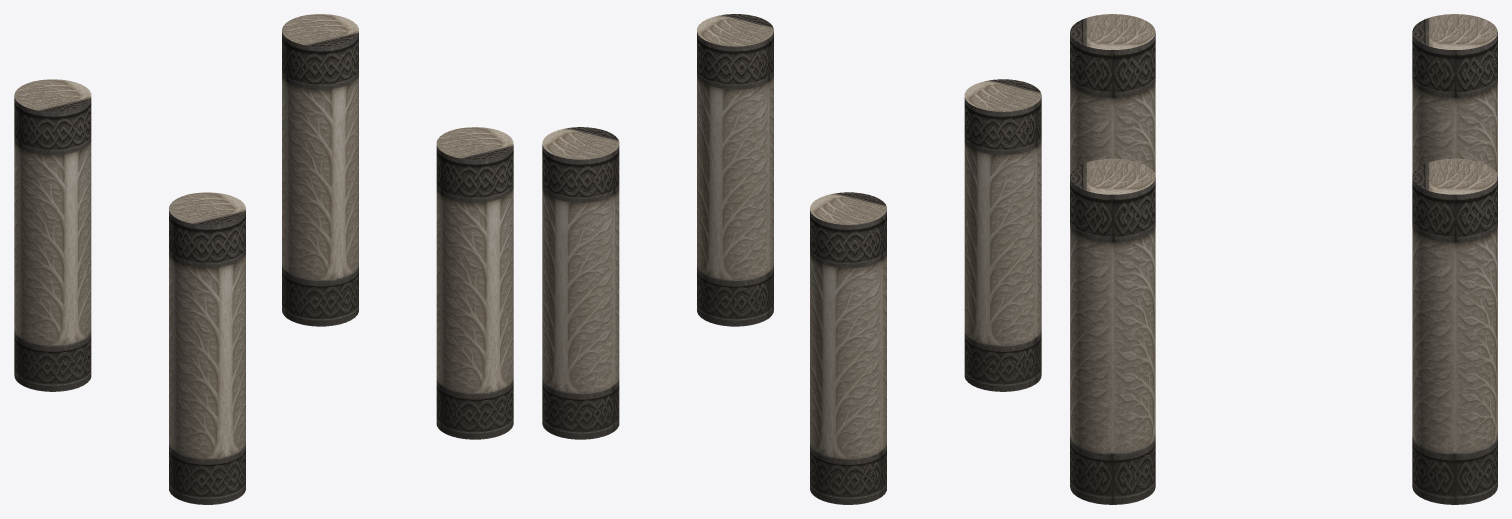
File: blk_pillars_castle.glb
3 renders of one model, left to right at view 1: azimuth 30°, elevation 25°; view 2: azimuth 150°, elevation 25°; view 3: azimuth 270°, elevation 25°, orthographic. The views are drawn at different scales.
Parts seen in each view (by area): view 1: 4 pillars; view 2: 4 pillars; view 3: 4 pillars.
Part boxes in pixels (x1=…): 4 pillars: x1=14, y1=14, x2=513, y2=504; 4 pillars: x1=542, y1=14, x2=1041, y2=504; 4 pillars: x1=1070, y1=14, x2=1497, y2=504.
Size of the model in its own units: 2.5 by 2 by 2.5.
1 material, 1 textured.
